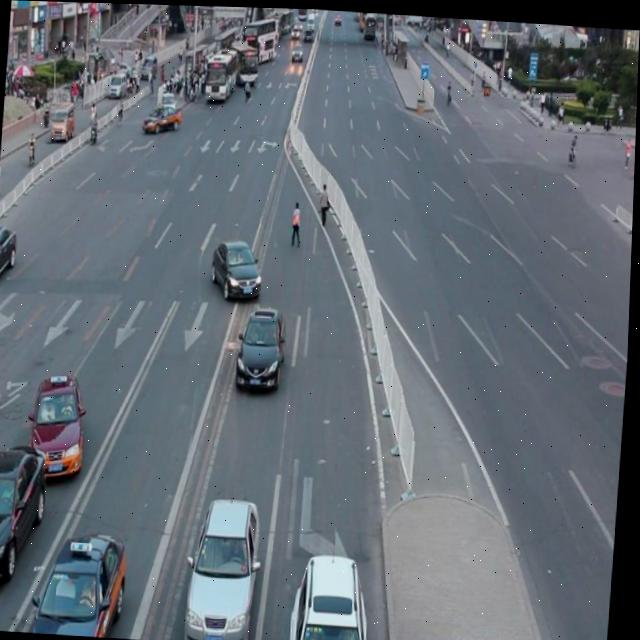car: (183, 488, 266, 640), (28, 523, 132, 637), (290, 545, 381, 640), (0, 438, 51, 587), (31, 371, 91, 481), (235, 298, 291, 391), (211, 235, 267, 300), (0, 223, 22, 290)
